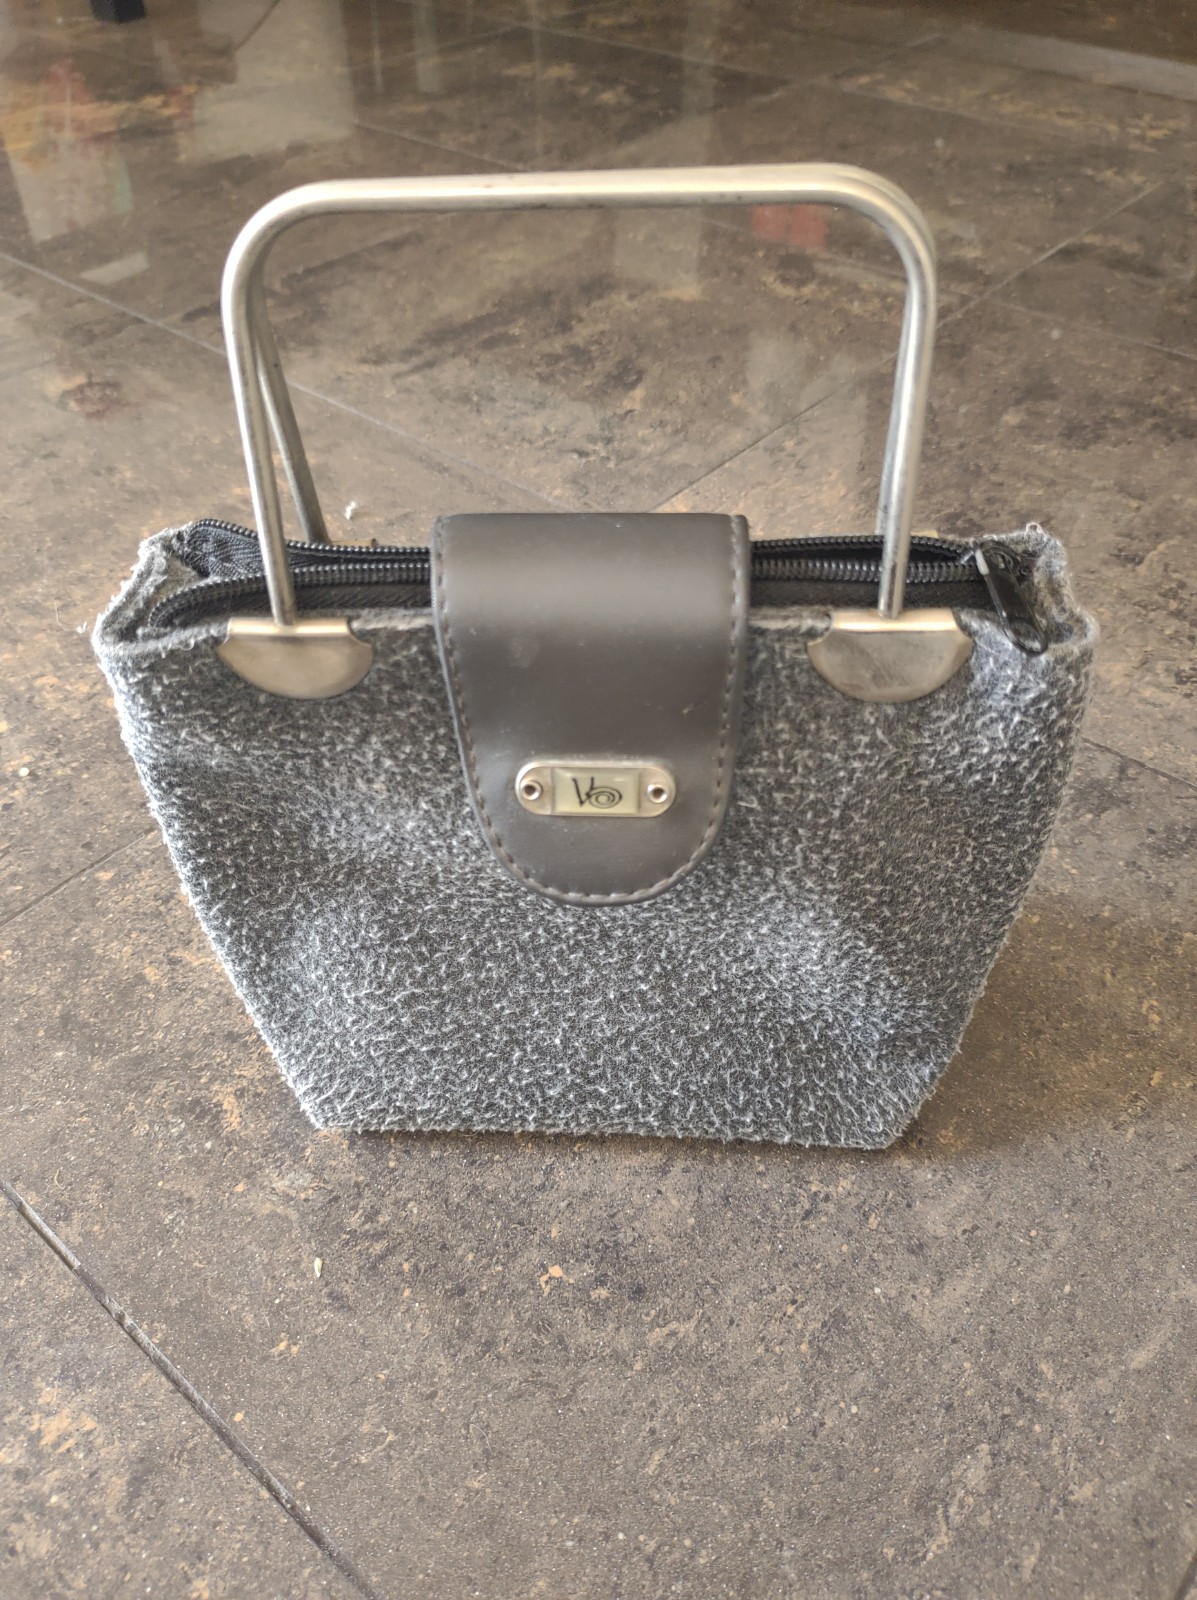cartera: (70, 163, 1127, 1165)
tela: (138, 566, 1083, 1151)
